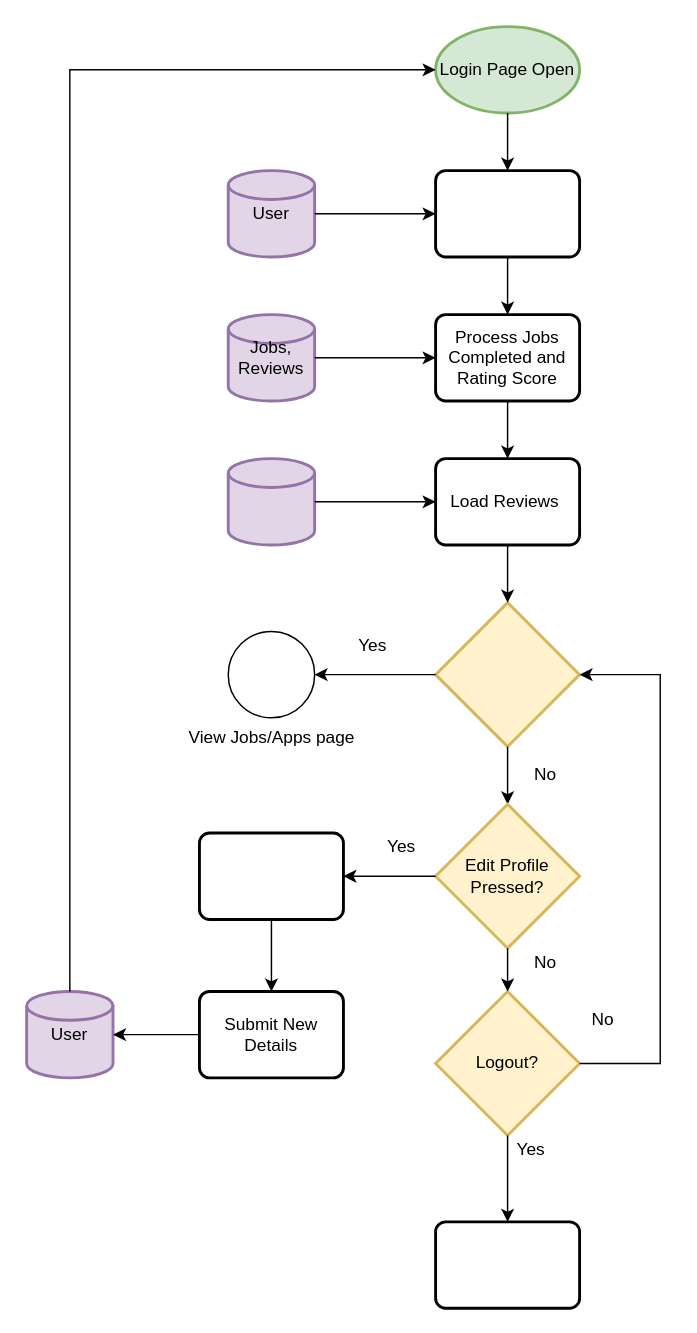
The diagram is 697 pixels wide and 1333 high, and some of its shapes have lost their labels. Each missing label, with the centre of its shape:
"Load Edit Profile Page" belongs at point (270, 875).
"Load User Details" belongs at point (506, 213).
"Logout, Load Login Page" belongs at point (506, 1264).
"Reviews" belongs at point (270, 501).
"View Jobs/Applications pressed" belongs at point (506, 673).
